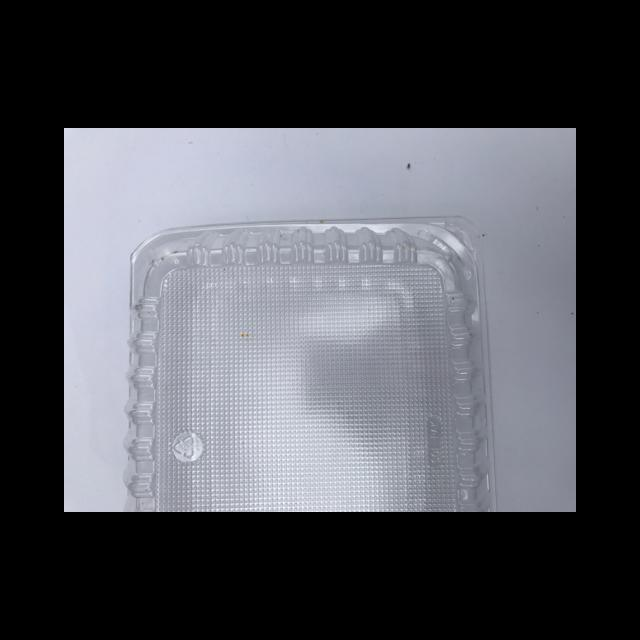plastic: (123, 215, 499, 511)
